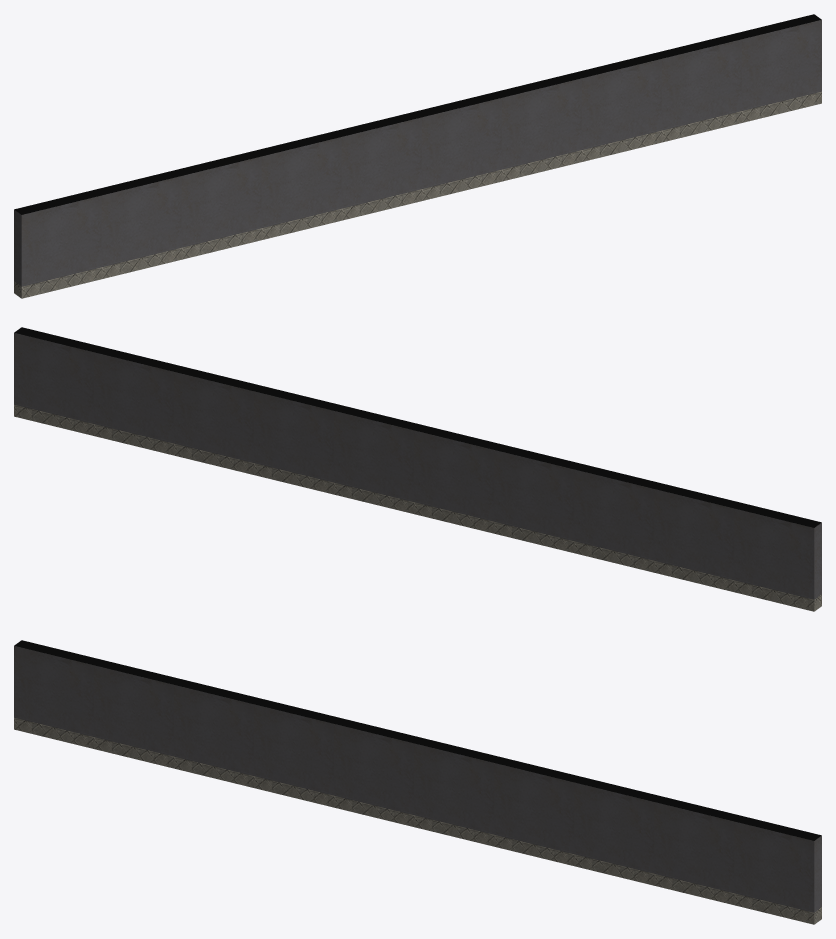
Rendered from long wall shop.fbx.
3 views of the same model, one above another, from view 1: azimuth 30°, elevation 25°; view 2: azimuth 150°, elevation 25°; view 3: azimuth 330°, elevation 25° (orthographic).
Parts seen in each view (by area): view 1: long wall shop; view 2: long wall shop; view 3: long wall shop.
Boxes of the visible parts, x1,y1,x2,y2 form: long wall shop: (14, 14, 821, 298); long wall shop: (14, 327, 821, 611); long wall shop: (14, 640, 821, 924).
Bounding box in the file's own units: 60 × 6 × 1.
